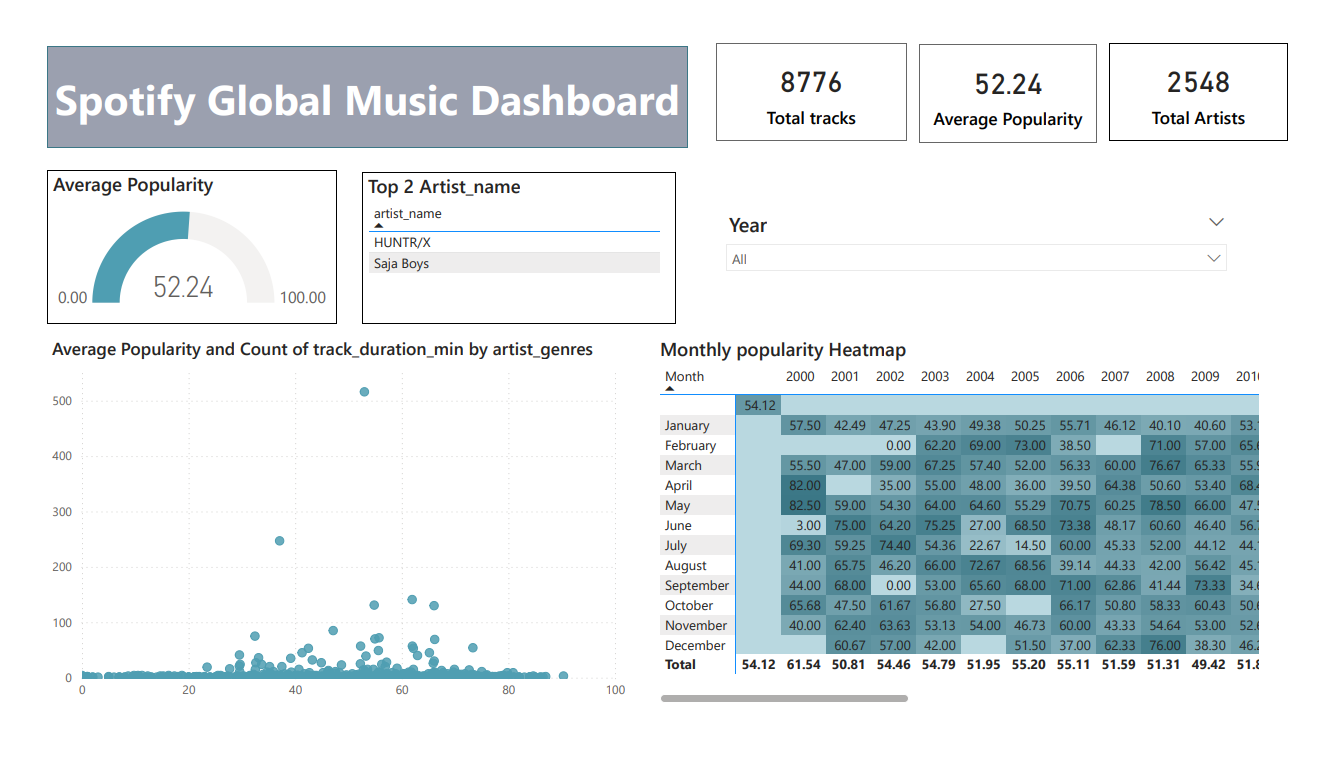

What the dashboard file says about the page in this screenshot:
{"tool":"powerbi","page":{"name":"Overview","canvas":[1280,720],"ordinal":0},"visuals":[{"type":"card","fields":{"Values":["measures (2).average Popularity"]},"box":[898.3,22.4,177.6,98.3],"z":0},{"type":"scatterChart","title":"Average Popularity and Count of track_duration_min by artist_genres","fields":{"Category":["Append1.artist_genres"],"X":["measures (2).average Popularity"],"Y":["Count(Append1.track_duration_min)"]},"box":[25.9,313.8,582.8,372.4],"z":1000},{"type":"card","fields":{"Values":["measures (2).Total tracks"]},"box":[694.8,20.7,191.4,98.3],"z":2000},{"type":"pivotTable","title":"Monthly popularity Heatmap","fields":{"Columns":["Calendar.Date Hierarchy.Year"],"Rows":["Calendar.Date Hierarchy.Month"],"Values":["measures (2).average Popularity"]},"box":[634.5,313.8,608.6,372.4],"z":3000},{"type":"shape","box":[25.9,24.1,641.4,101.7],"z":4000},{"type":"tableEx","title":"Top 2 Artist_name","fields":{"Values":["Append1.artist_name"]},"box":[341.4,150,313.8,151.7],"z":5000},{"type":"gauge","fields":{"Y":["measures (2).Average Popularity"]},"box":[25.9,148.3,289.7,153.4],"z":6000},{"type":"slicer","fields":{"Values":["Calendar.Year"]},"box":[694.8,182.8,520.7,86.2],"z":7000},{"type":"card","fields":{"Values":["Count(Append1.artist_name)"]},"box":[1087.9,20.7,179.3,98.3],"z":8000}]}

Visuals, with their boxes in screenshot pixels (x1, y1, x2, y2), scaled from the page's 1280x720 canvas onto the 1325x765 screenshot:
card - measures (2).average Popularity: [930, 24, 1114, 128]
"Average Popularity and Count of track_duration_min by artist_genres" scatterChart: [27, 333, 630, 729]
card - measures (2).Total tracks: [719, 22, 917, 126]
"Monthly popularity Heatmap" pivotTable: [657, 333, 1287, 729]
shape: [27, 26, 691, 134]
"Top 2 Artist_name" tableEx: [353, 159, 678, 321]
gauge - measures (2).Average Popularity: [27, 158, 327, 321]
slicer - Calendar.Year: [719, 194, 1258, 286]
card - Count(Append1.artist_name): [1126, 22, 1312, 126]
